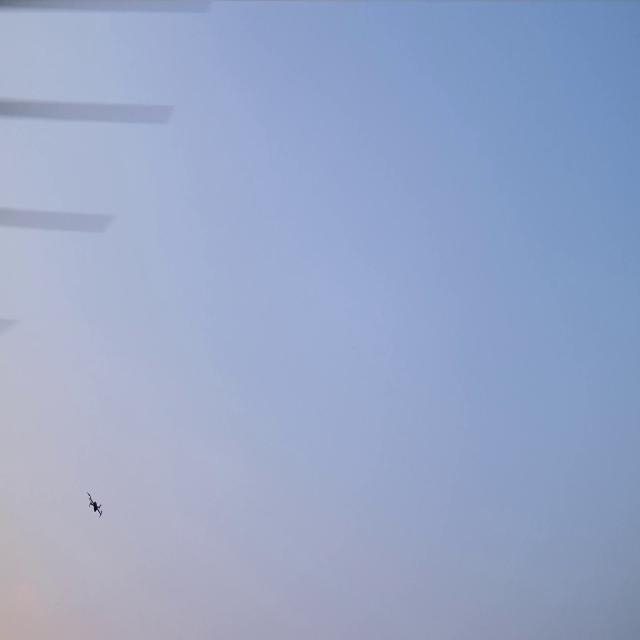UAV: (86, 489, 103, 519)
